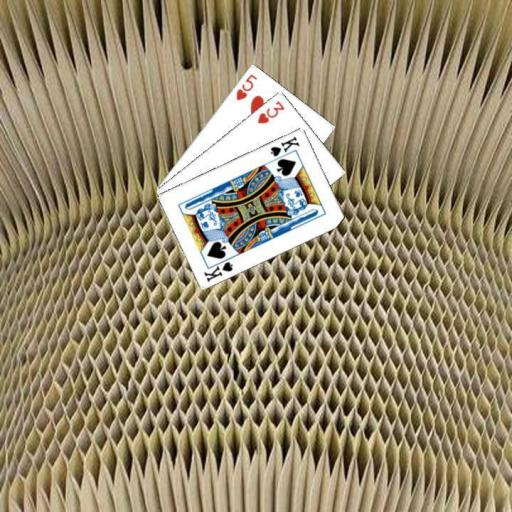card-corner: (200, 253, 234, 283), (232, 70, 259, 102), (254, 98, 286, 125), (267, 133, 301, 158)
